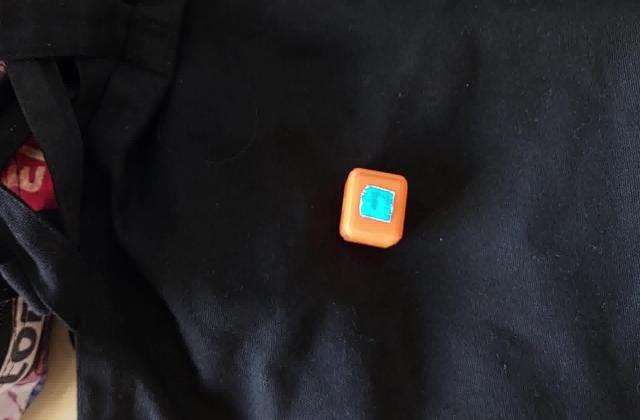blue: (368, 192, 390, 216)
sticker: (336, 166, 409, 251)
